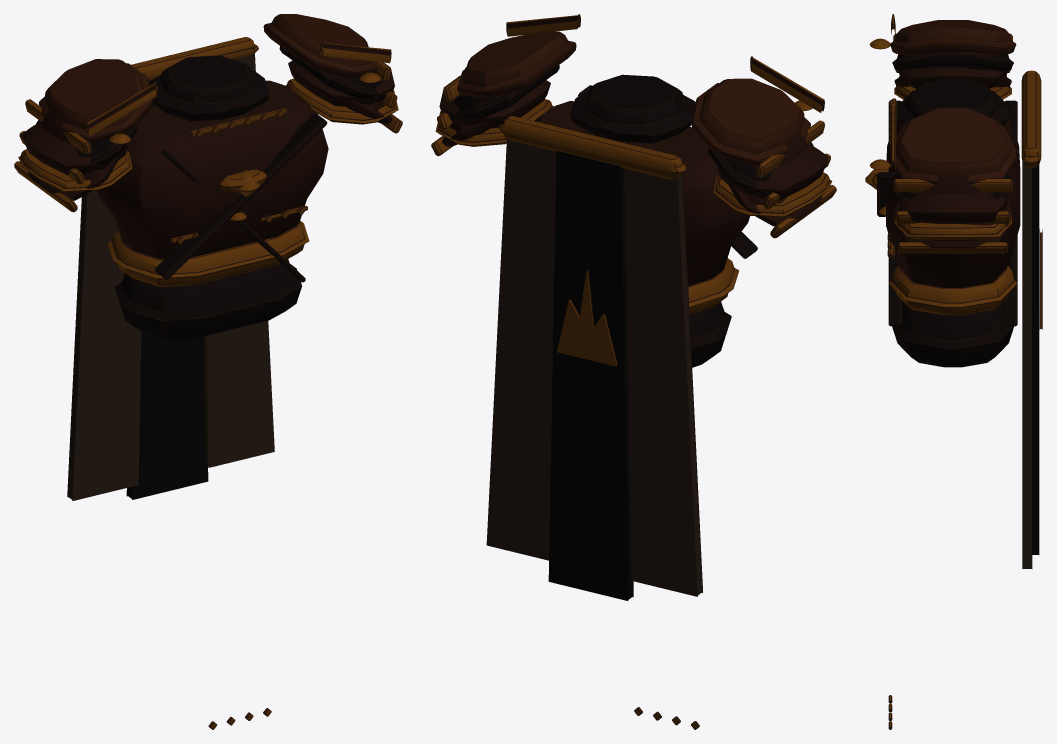
Rendered from Couro_Armadura.fbx.
3 renders of one model, left to right at view 1: azimuth 30°, elevation 25°; view 2: azimuth 150°, elevation 25°; view 3: azimuth 270°, elevation 25°, orthographic. The views are drawn at different scales.
Visible parts, largest first — view 1: Piece; view 2: Piece; view 3: Piece.
Part boxes in pixels (x1,y1,x2,y2): Piece: [14, 14, 402, 729]; Piece: [431, 14, 836, 729]; Piece: [865, 14, 1042, 729].
Size of the model in its own units: 0.8838 by 1.56 by 0.3843.
